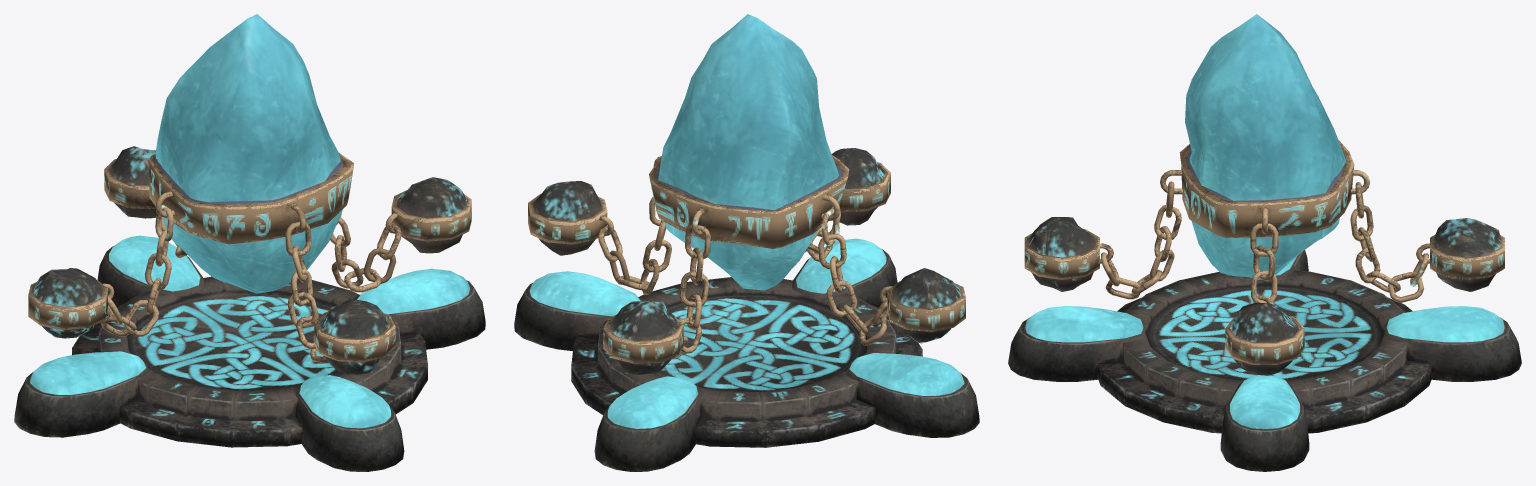
3 renders of one model, left to right at view 1: azimuth 30°, elevation 25°; view 2: azimuth 150°, elevation 25°; view 3: azimuth 270°, elevation 25°, orthographic. The views are drawn at different scales.
Visible parts, largest first — view 1: Platform_Low_Material #111_0; view 2: Platform_Low_Material #111_0; view 3: Platform_Low_Material #111_0.
Boxes of the visible parts, x1,y1,x2,y2 form: Platform_Low_Material #111_0: (14, 14, 485, 471); Platform_Low_Material #111_0: (514, 14, 979, 471); Platform_Low_Material #111_0: (1008, 14, 1521, 471).
Size of the model in its own units: 90.66 by 67.75 by 90.66.
Materials: 1 (1 with a texture image).
